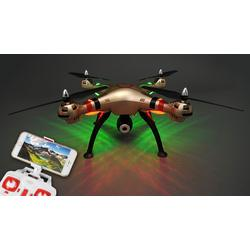drone: (53, 69, 197, 159)
